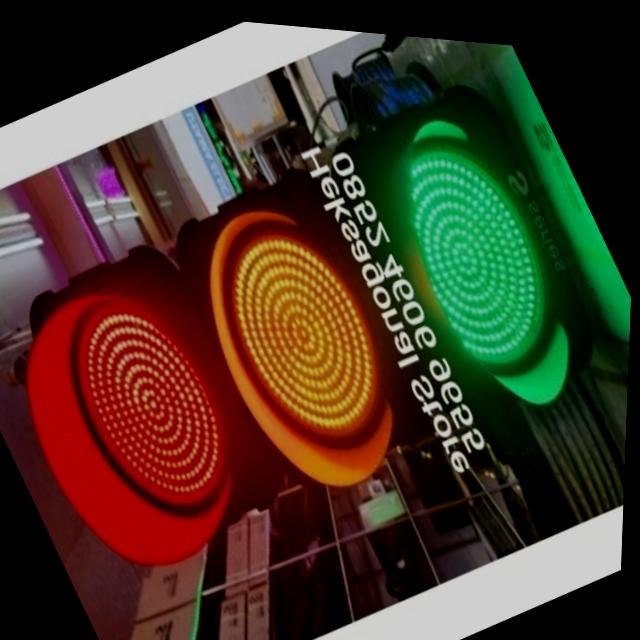Hijau: (374, 113, 582, 369)
Kuning: (199, 200, 414, 458)
Merah: (43, 269, 259, 529)
